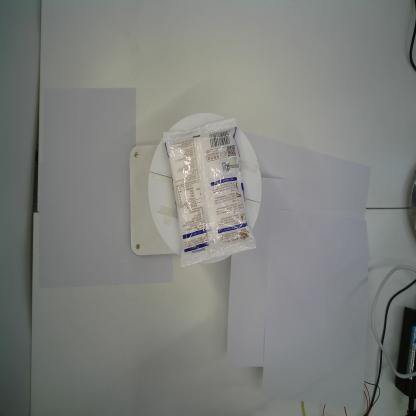Seasoner: (162, 116, 257, 268)
